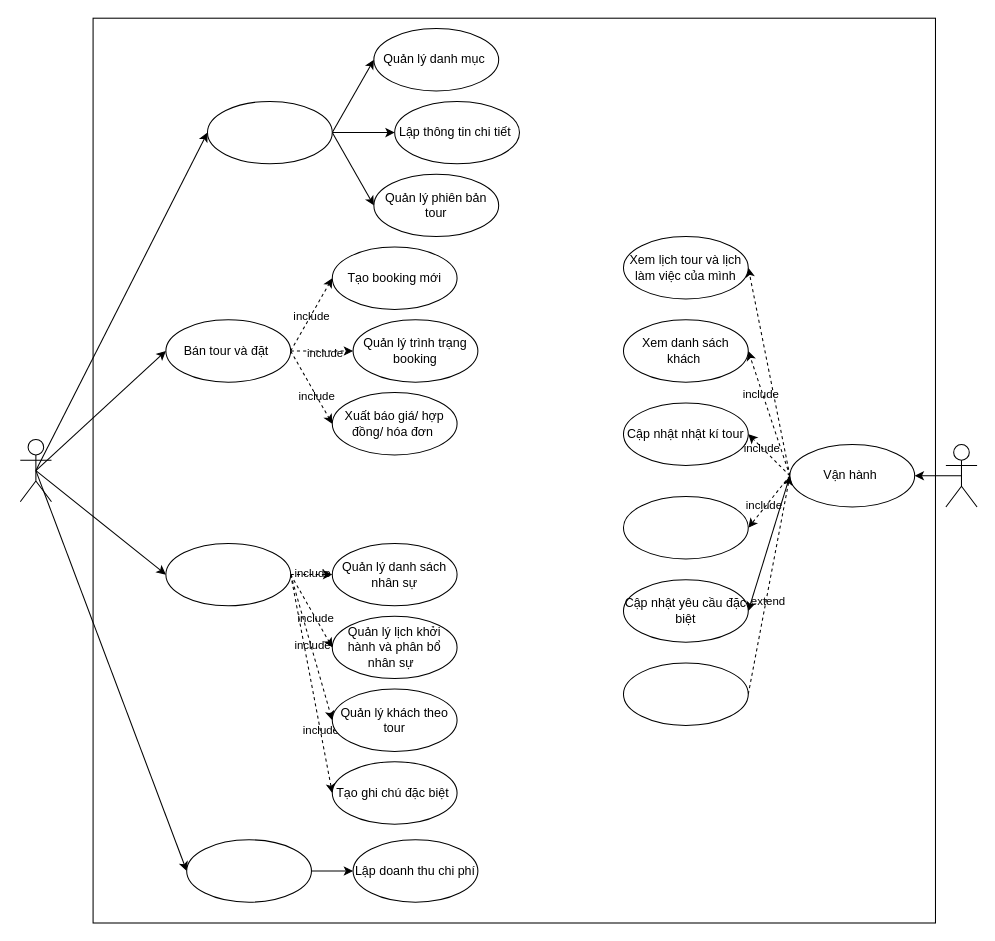
This 995x941 diagram has some shape labels left out. Each missing label, with the box of its shape:
Admin: (19, 438, 51, 502)
Báo cáo vận hành: (186, 839, 311, 902)
Gửi phản hồi, đánh giá: (622, 662, 748, 725)
hdv: (945, 444, 977, 507)
Quản lý tour và sp du lịch: (206, 100, 332, 164)
Quản lý và điều hành tour: (165, 542, 291, 606)
Xác nhận điểm checkin, điểm danh: (622, 496, 748, 559)
